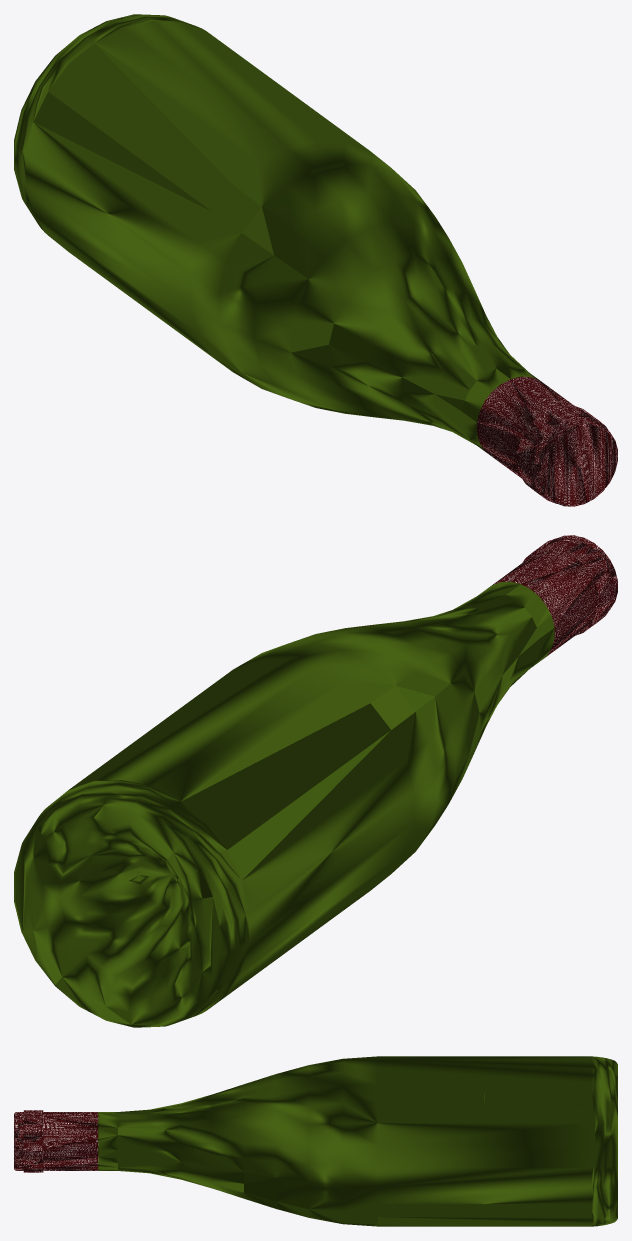
The model's file is model_align.obj.
3 renders of one model, top to bottom at view 1: azimuth 30°, elevation 25°; view 2: azimuth 150°, elevation 25°; view 3: azimuth 270°, elevation 25°, orthographic. The views are drawn at different scales.
Bounding box in the file's own units: 0.0401 × 0.0401 × 0.1433.
